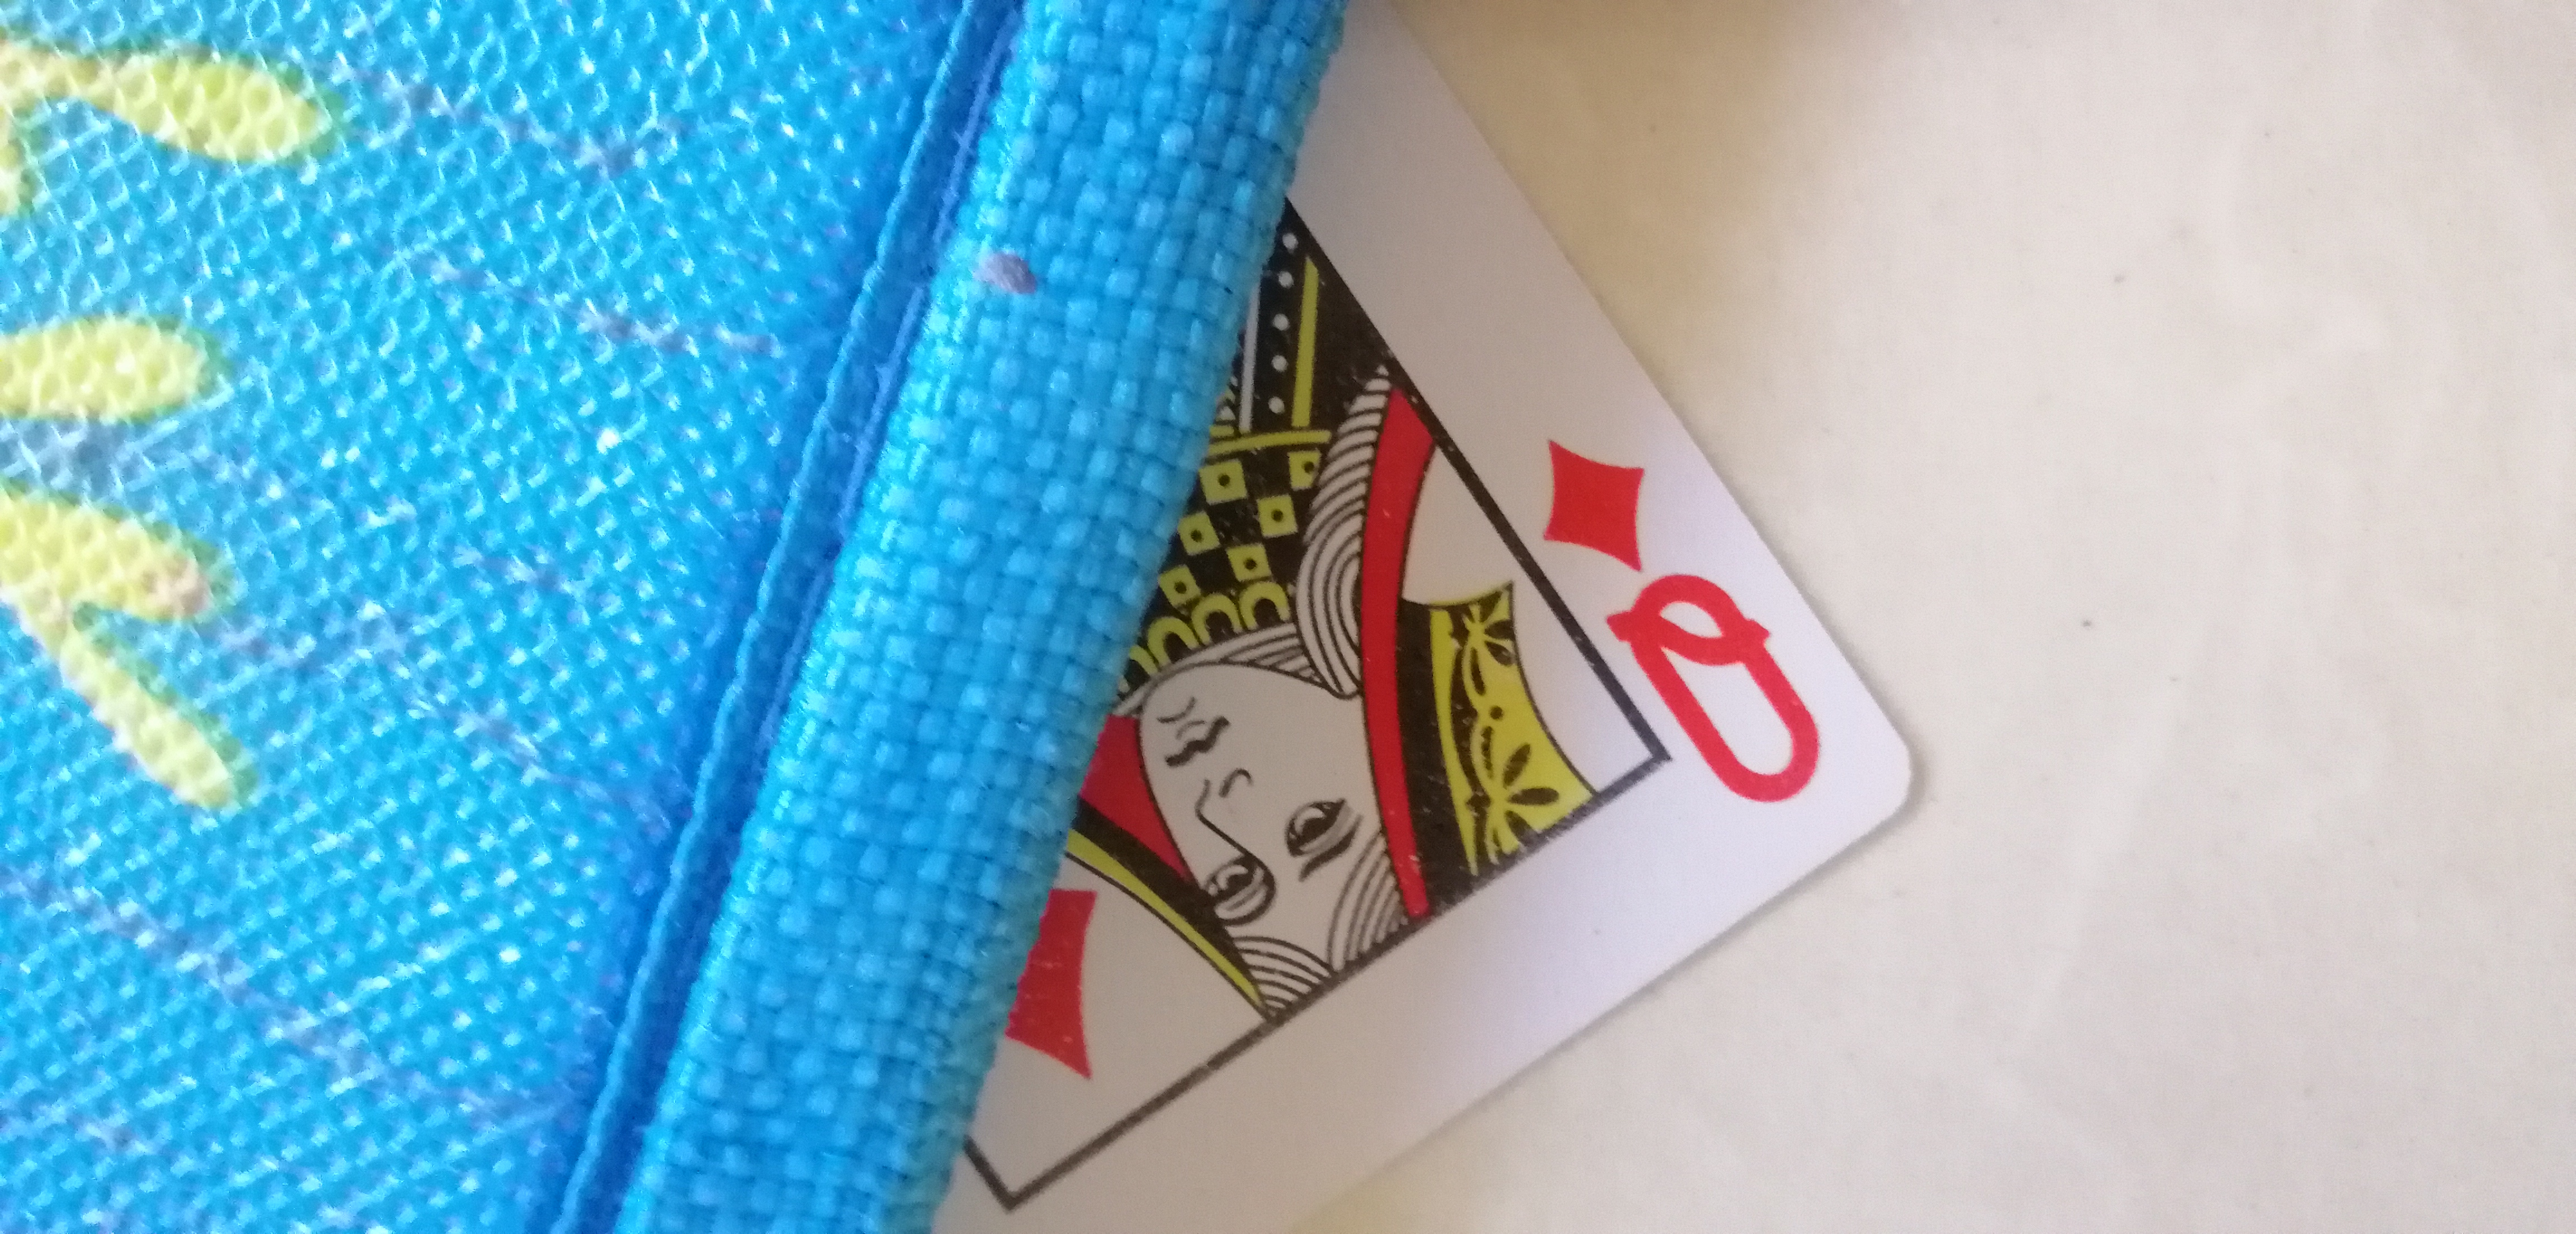queen: (862, 10, 1921, 1234)
